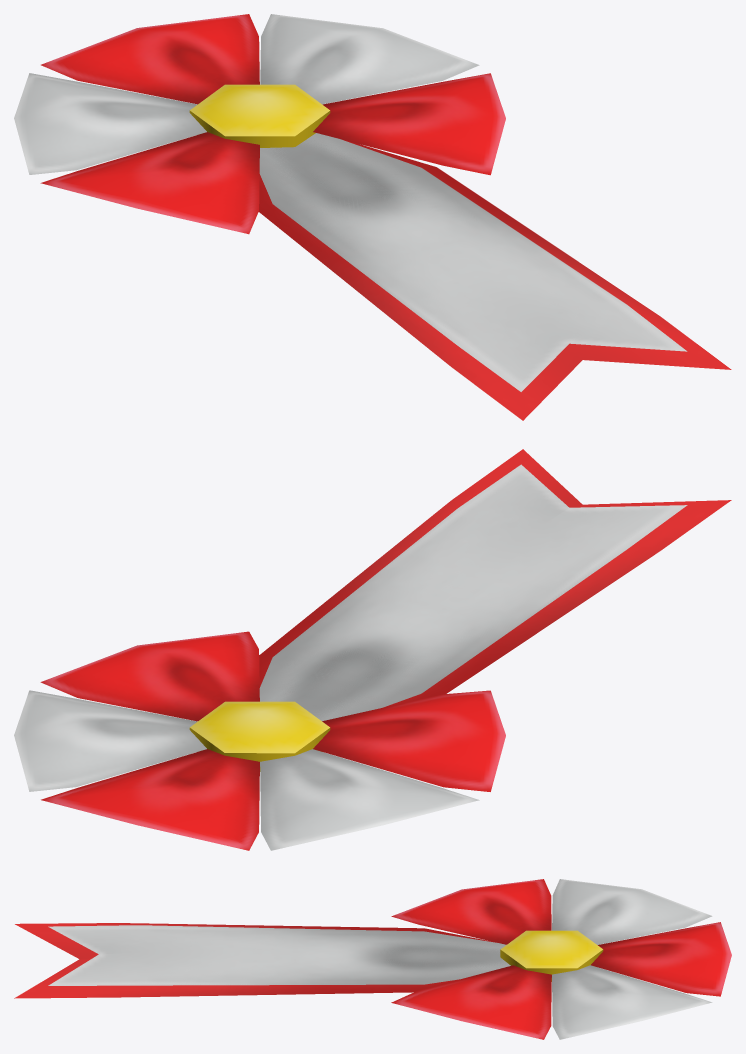
File: set_graduation_ribbon.fbx
3 renders of one model, top to bottom at view 1: azimuth 30°, elevation 25°; view 2: azimuth 150°, elevation 25°; view 3: azimuth 270°, elevation 25°, orthographic. The views are drawn at different scales.
Visible parts, largest first — view 1: set_graduation_ribbon; view 2: set_graduation_ribbon; view 3: set_graduation_ribbon.
Part boxes in pixels (x1,y1,x2,y2): set_graduation_ribbon: (14,14,731,420); set_graduation_ribbon: (14,449,731,850); set_graduation_ribbon: (14,879,731,1039).
Size of the model in its own units: 6.07 by 0.4383 by 11.44.
